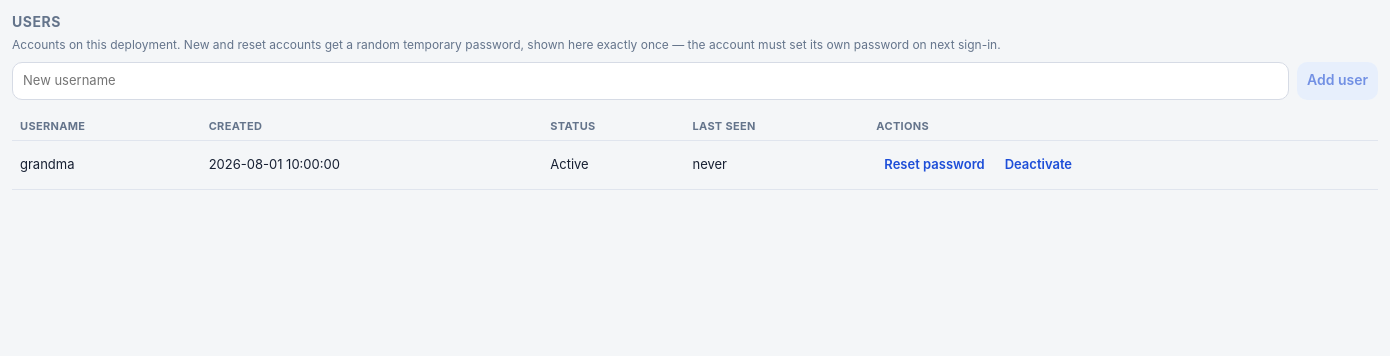
Test: Users › resets a user's password and reveals the new temporary password
Click the button "Reset password" at (935, 165), box [876,149,993,180]
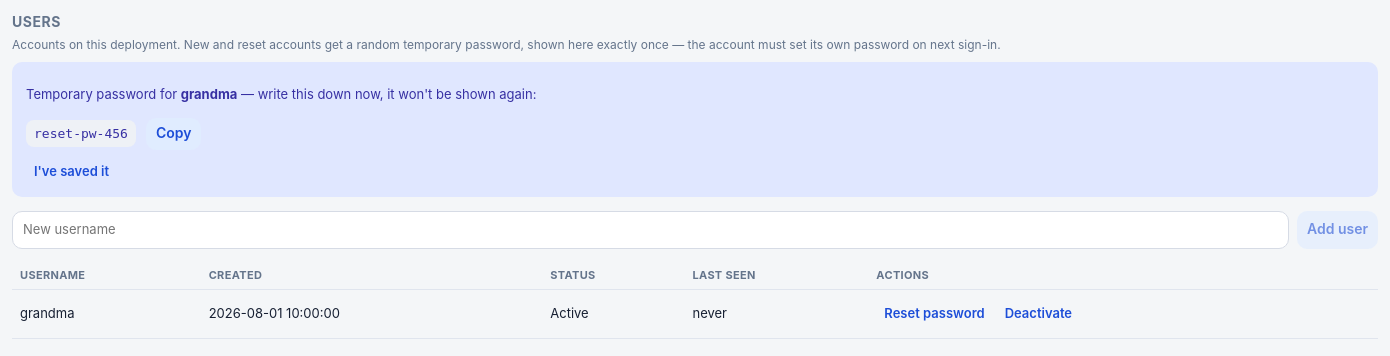
Check: the text "reset-pw-456" is shown, box [26,120,136,147]
